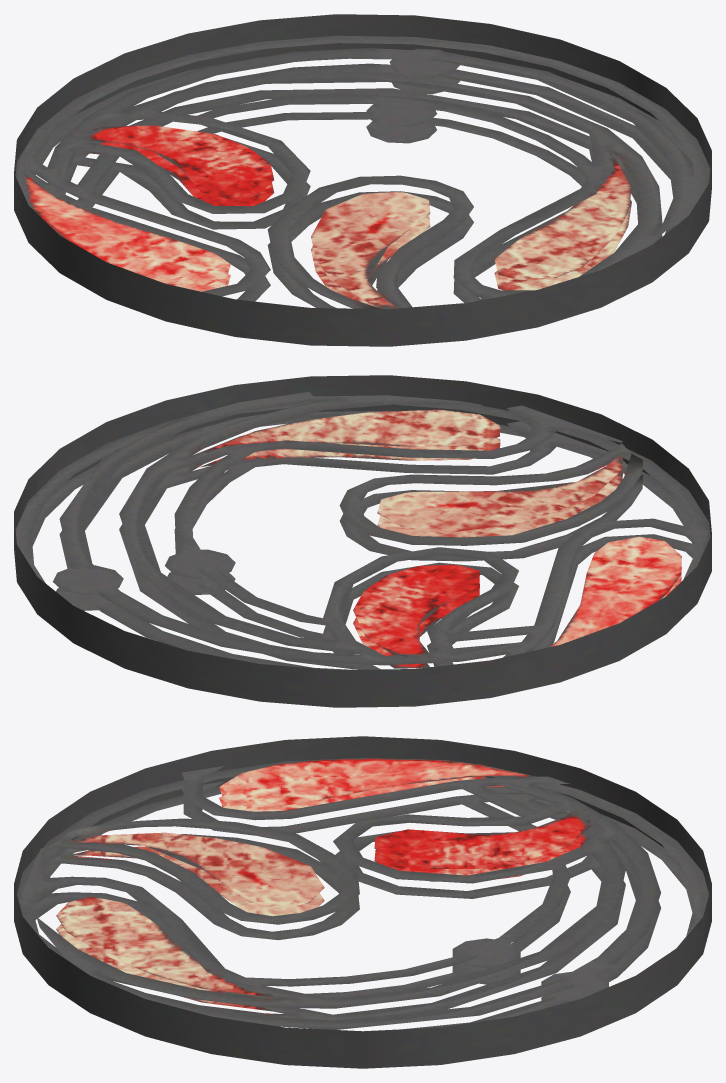
Rendered from nt_2020_wall_art_prop_03_LOD1.obj.
The picture shows the model from 3 angles, top to bottom: view 1: azimuth 30°, elevation 25°; view 2: azimuth 150°, elevation 25°; view 3: azimuth 270°, elevation 25°; orthographic projection.
Visible parts, largest first — view 1: mtl_nt_2020_wall_art_03; view 2: mtl_nt_2020_wall_art_03; view 3: mtl_nt_2020_wall_art_03.
Part boxes in pixels (x1=…): mtl_nt_2020_wall_art_03: x1=14, y1=14, x2=711, y2=346; mtl_nt_2020_wall_art_03: x1=14, y1=375, x2=711, y2=707; mtl_nt_2020_wall_art_03: x1=14, y1=736, x2=711, y2=1068.
Bounding box in the file's own units: 117 × 6.96 × 117.
